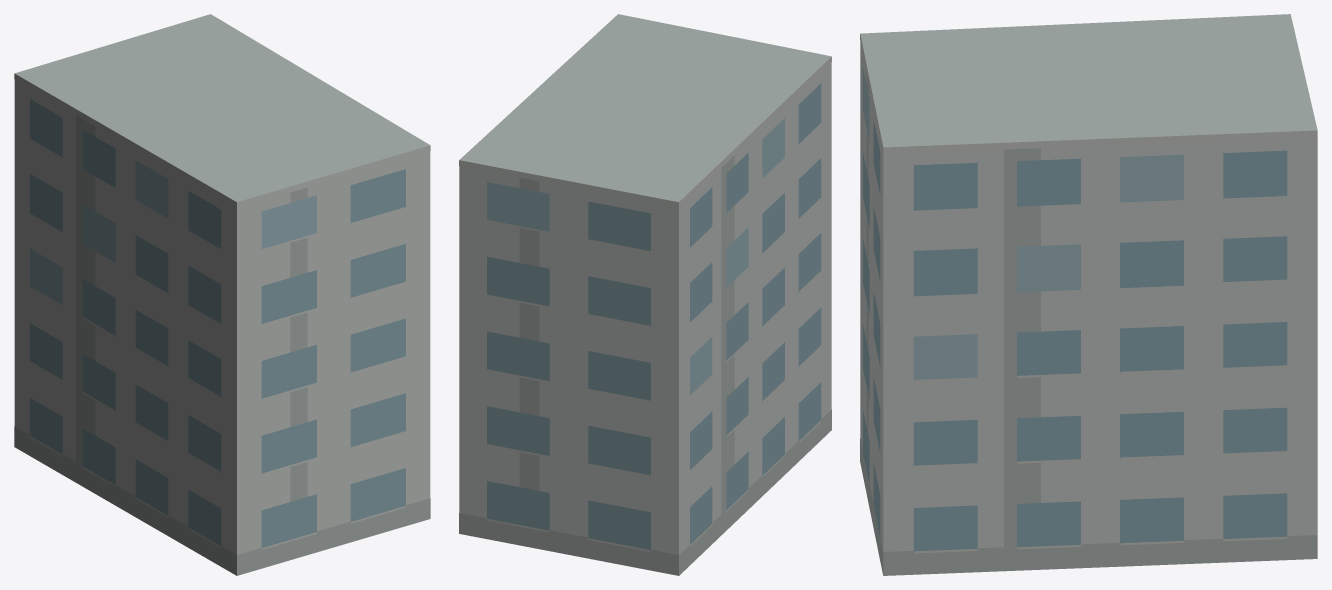
The model's file is survey-upis-32579883.glb.
The picture shows the model from 3 angles, left to right: view 1: azimuth 30°, elevation 25°; view 2: azimuth 150°, elevation 25°; view 3: azimuth 270°, elevation 25°; orthographic projection. The views are drawn at different scales.
Visible parts, largest first — view 1: survey-upis-32579883.tmp; view 2: survey-upis-32579883.tmp; view 3: survey-upis-32579883.tmp.
Boxes of the visible parts, box(x1,y1,x2,y2) form: survey-upis-32579883.tmp: box(14, 14, 430, 575); survey-upis-32579883.tmp: box(459, 14, 831, 575); survey-upis-32579883.tmp: box(860, 14, 1317, 575).
Size of the model in its own units: 10.19 by 15.25 by 14.77.
